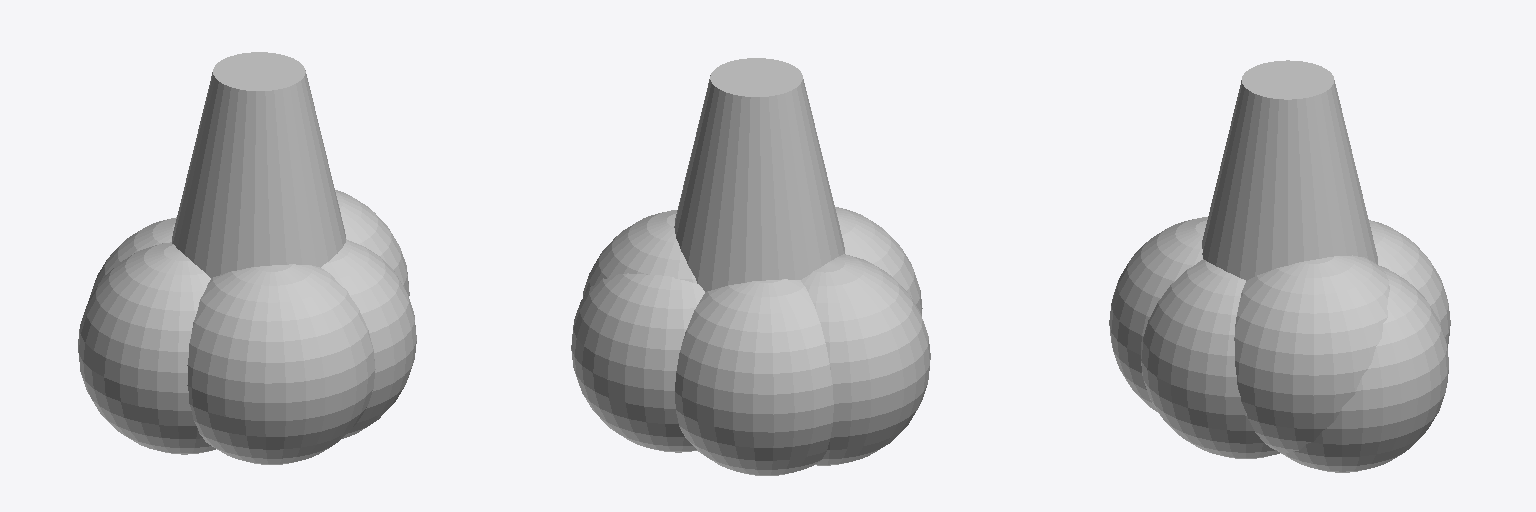
The model's file is Player3.obj.
3 views of the same model, side by side, from view 1: azimuth 30°, elevation 25°; view 2: azimuth 150°, elevation 25°; view 3: azimuth 270°, elevation 25° (orthographic).
Visible parts, largest first — view 1: Cylinder_Cylinder.001; view 2: Cylinder_Cylinder.001; view 3: Cylinder_Cylinder.001.
Part boxes in pixels (left/top/right/bottom): Cylinder_Cylinder.001: left=78, top=52, right=416, bottom=464; Cylinder_Cylinder.001: left=571, top=58, right=930, bottom=475; Cylinder_Cylinder.001: left=1109, top=60, right=1450, bottom=472.
Size of the model in its own units: 2.23 by 2.44 by 2.11.